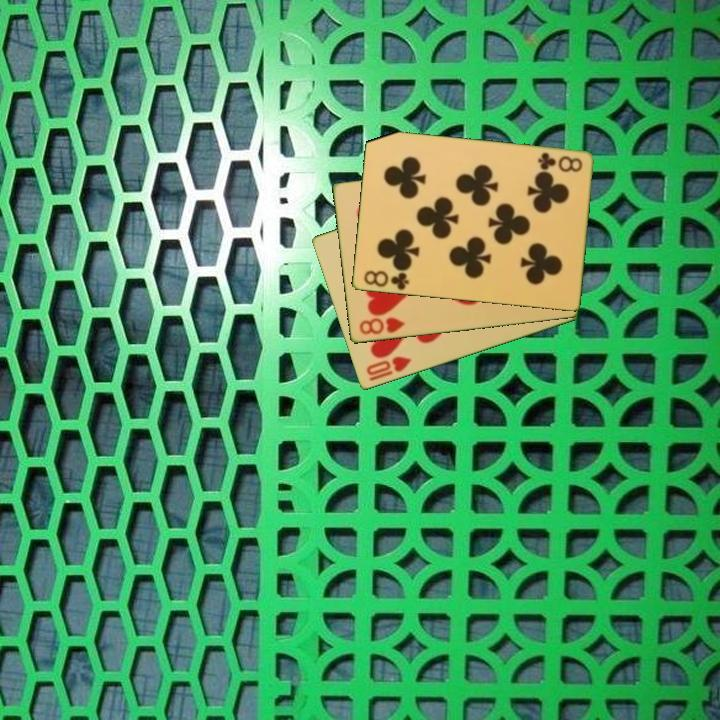10h: (362, 353, 415, 379)
8c: (360, 267, 412, 293), (534, 149, 585, 175)
8h: (355, 314, 407, 338)
